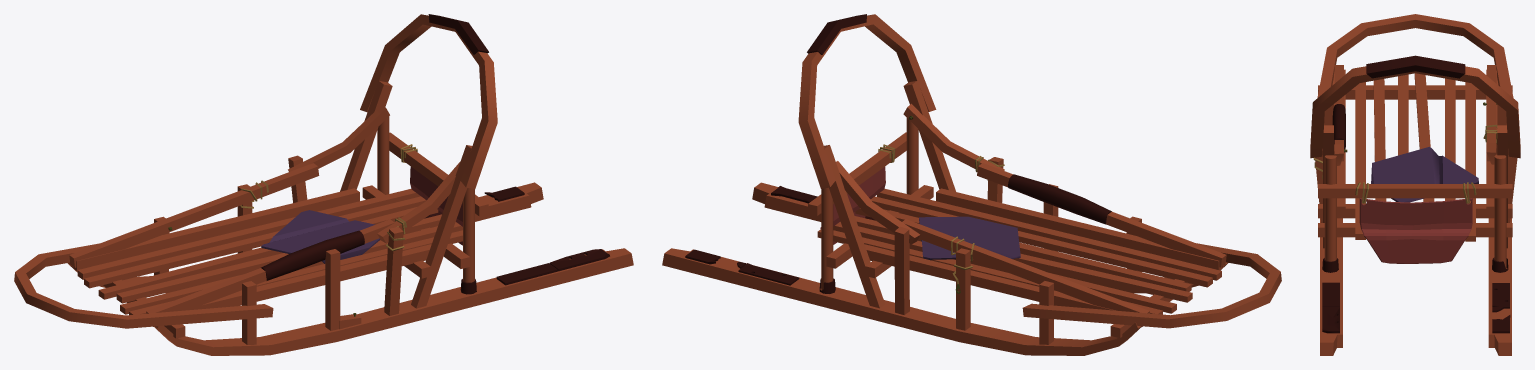
Rendered from sledge.fbx.
3 views of the same model, side by side, from view 1: azimuth 30°, elevation 25°; view 2: azimuth 150°, elevation 25°; view 3: azimuth 270°, elevation 25° (orthographic).
Visible parts, largest first — view 1: Cube.067, Cube.055, Cube.065, Cube.066, Cube.054, Cube.058, Cube.059, Cube.068, Cube.077, Cube.061, Cube.060, Cube.076 (+10 smaller); view 2: Cube.055, Cube.067, Cube.065, Cube.066, Cube.068, Cube.063, Cube.062, Cube.077, Cube.054, Cube.060, Cube.061, Cube.076 (+9 smaller); view 3: Plane.001, Cube.065, Cube.066, Cube.055, Cube.077, Cube.072, Cube.067, Cube.079, Cube.063, Cylinder.002, Cube.058, Cylinder (+17 smaller).
Boxes of the visible parts, <box> form: Cube.067: <box>146,145,633,355</box>; Cube.055: <box>67,81,543,293</box>; Cube.065: <box>14,232,273,328</box>; Cube.066: <box>360,14,497,188</box>; Cube.054: <box>71,188,359,270</box>; Cube.058: <box>77,189,420,279</box>; Cube.059: <box>84,196,426,288</box>; Cube.068: <box>153,244,431,326</box>; Cube.077: <box>261,210,380,263</box>; Cube.061: <box>116,214,441,303</box>; Cube.060: <box>98,207,438,299</box>; Cube.076: <box>261,230,364,280</box>; Cube.055: <box>662,145,1149,355</box>; Cube.067: <box>752,80,1228,293</box>; Cube.065: <box>1022,232,1281,328</box>; Cube.066: <box>798,14,936,188</box>; Cube.068: <box>936,188,1223,270</box>; Cube.063: <box>877,188,1221,280</box>; Cube.062: <box>870,196,1212,287</box>; Cube.077: <box>919,216,1020,260</box>; Cube.054: <box>864,244,1142,326</box>; Cube.060: <box>854,216,1192,302</box>; Cube.061: <box>855,208,1191,291</box>; Cube.076: <box>1008,174,1111,224</box>; Plane.001: <box>1359,198,1472,263</box>; Cube.065: <box>1317,14,1513,124</box>; Cube.066: <box>1310,66,1520,158</box>; Cube.055: <box>1486,65,1517,355</box>; Cube.077: <box>1371,146,1478,202</box>; Cube.072: <box>1318,184,1512,198</box>; Cube.067: <box>1315,65,1343,355</box>; Cube.079: <box>1366,55,1465,78</box>; Cube.063: <box>1355,82,1365,239</box>; Cylinder.002: <box>1494,154,1506,268</box>; Cube.058: <box>1465,82,1475,241</box>; Cylinder: <box>1324,155,1336,261</box>.
Size of the model in its own units: 1668 by 697 by 548.
